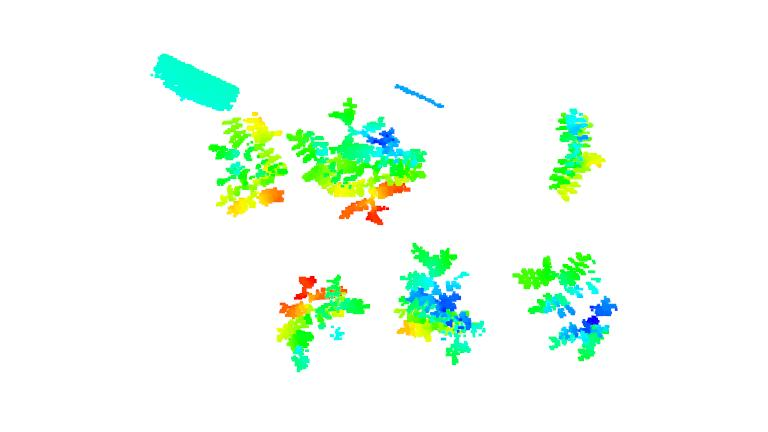chickpea: (290, 94, 424, 226), (395, 240, 491, 369), (514, 249, 620, 359), (273, 273, 371, 374), (207, 111, 293, 216), (540, 109, 610, 204)
